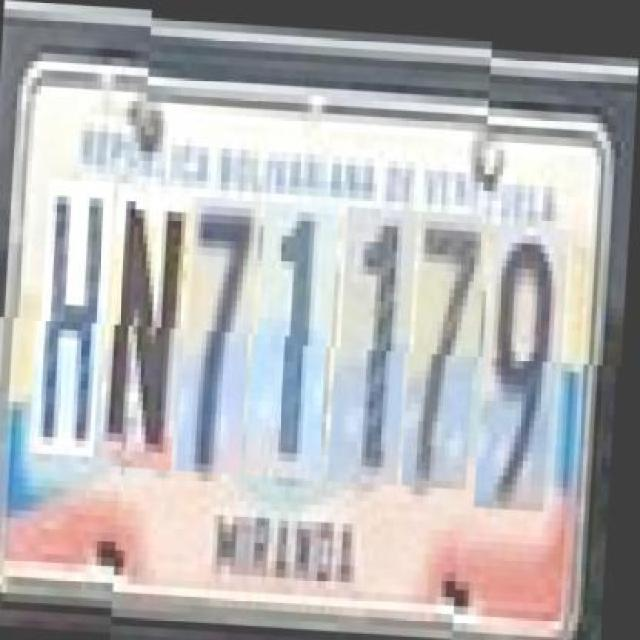1: (254, 197, 340, 475), (338, 202, 419, 480)
7: (186, 193, 263, 472), (412, 205, 488, 484)
9: (484, 210, 568, 496)
h: (38, 185, 116, 464)
n: (108, 189, 194, 468)
